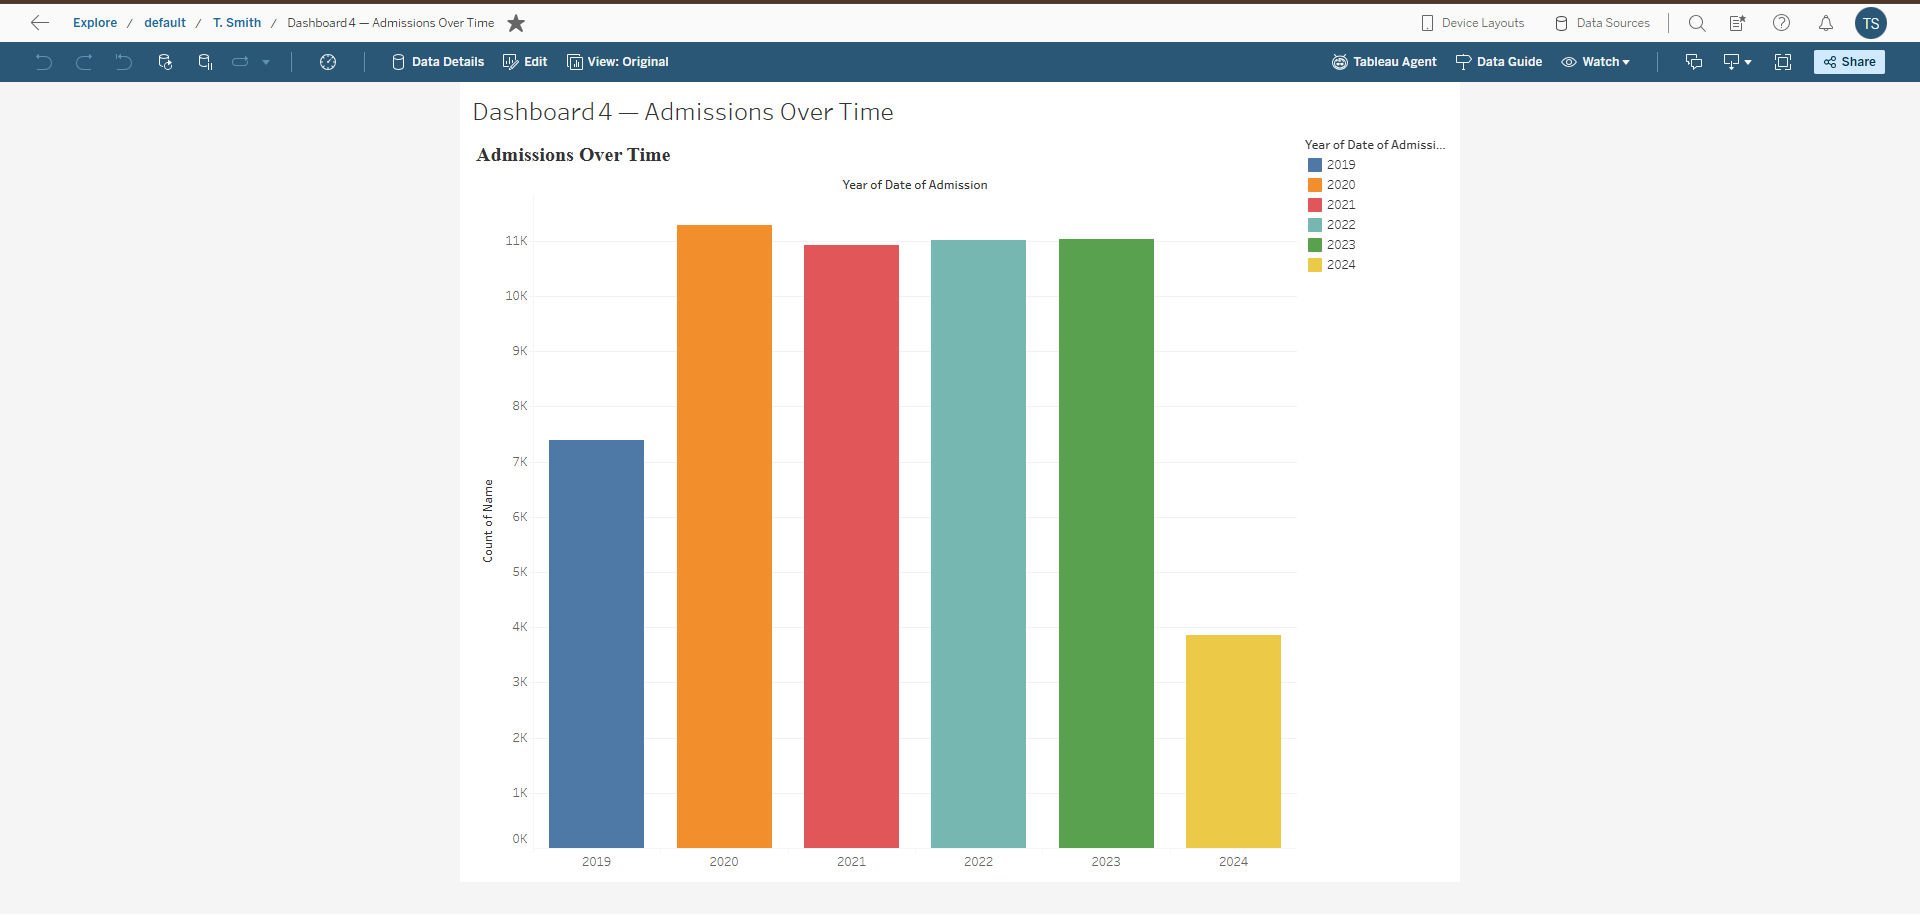

The page's visual inventory and layout, read from the dashboard file:
{"tool":"tableau","page":{"name":"Dashboard 4 — Admissions Over Time","canvas":[1000,800],"ordinal":3},"visuals":[{"type":"title","box":[8,8,984,42]},{"type":"worksheet","title":"Sheet 4","mark":"Bar","rows":["Name"],"cols":["Date_of_Admission"],"box":[8,50,833,742]},{"type":"legend","title":"Sheet 4","param":"[sqlproxy.0tvkooc0zpwh0q198ijcr0giots4].[yr:Date_of_Admission:ok]","box":[841,50,151,147]}]}

Visuals, with their boxes on the page's 1000x800 design canvas (x1, y1, x2, y2). These are canvas units, not pixel positions in the 1920x915 screenshot, which may show the page scaled, cropped or inside an application window:
title: (left=8, top=8, right=992, bottom=50)
"Sheet 4" worksheet (Bar marks): (left=8, top=50, right=841, bottom=792)
"Sheet 4" legend: (left=841, top=50, right=992, bottom=197)
